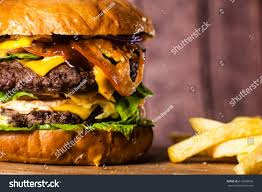hamburger: (1, 1, 155, 166)
